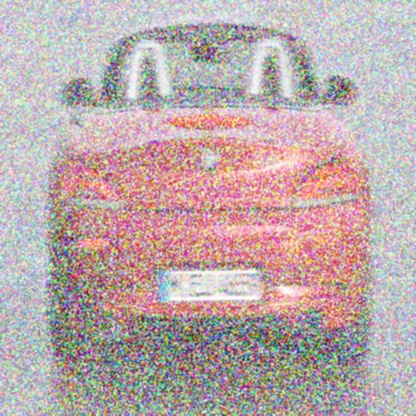Vehicle: (47, 14, 373, 368)
